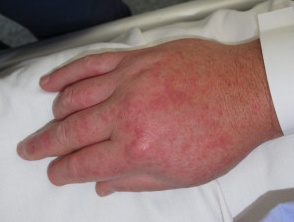SJS-TEN: (0, 11, 294, 222)
